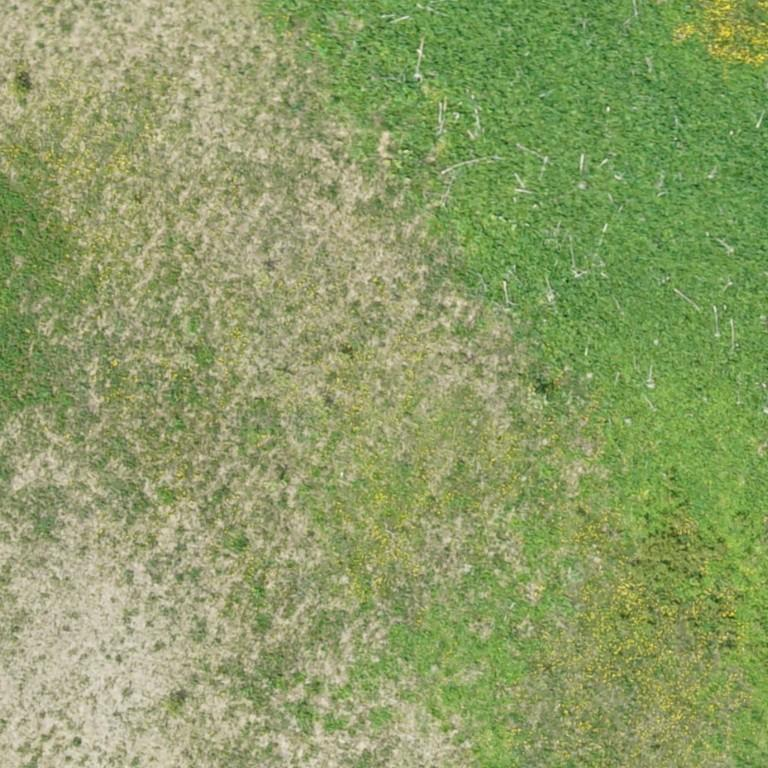hogweed: (263, 0, 767, 576)
